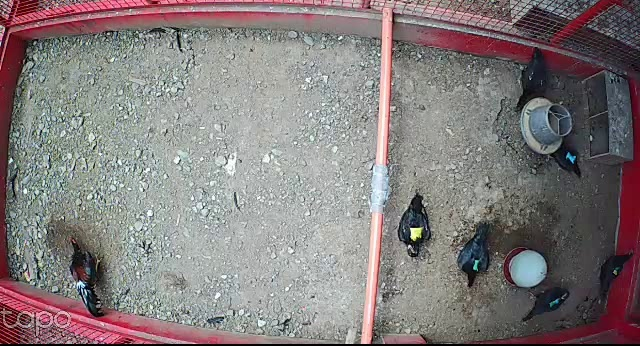Chicken: (393, 189, 431, 260), (455, 222, 495, 289), (511, 49, 548, 115), (593, 248, 635, 305), (520, 287, 571, 325), (545, 140, 585, 178)
Feeder: (521, 99, 572, 154)
Rooster: (62, 230, 117, 323)
Saddle_Color_Blue: (565, 152, 576, 164)
Saddle_Color_Yellow: (409, 226, 426, 242)
Saddle_Color_YellowGreen: (612, 266, 621, 274)
